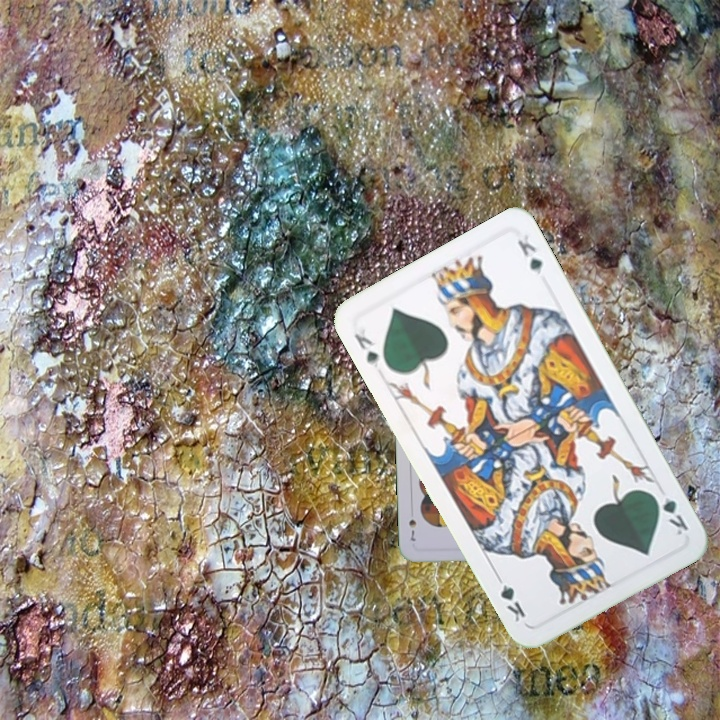GK: (648, 489, 691, 538), (350, 324, 383, 371)
